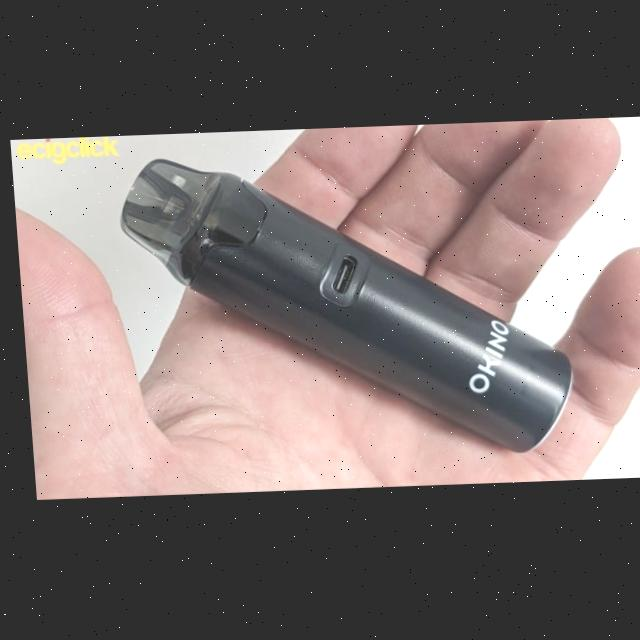vape: (113, 149, 572, 470)
